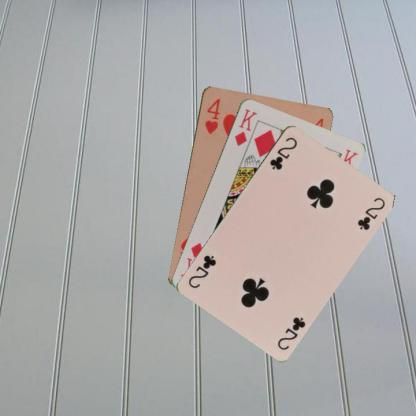2c: (274, 314, 307, 351), (267, 134, 299, 171)
4h: (202, 96, 221, 136)
Kd: (232, 106, 258, 147)
